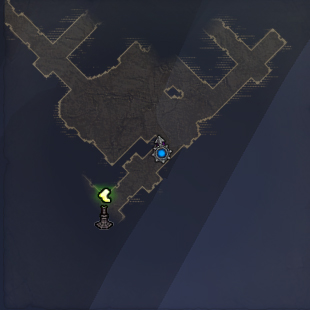SpeedPylon: (97, 187, 114, 229)
